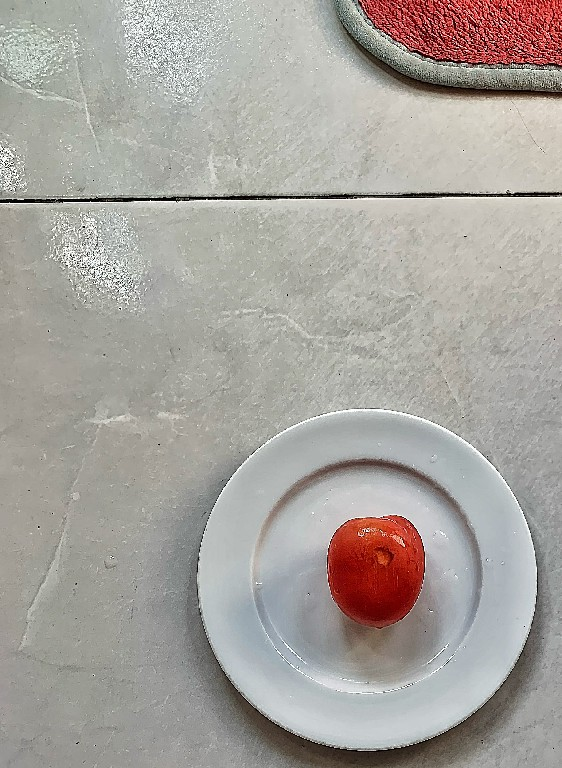NG: (324, 502, 440, 636)
